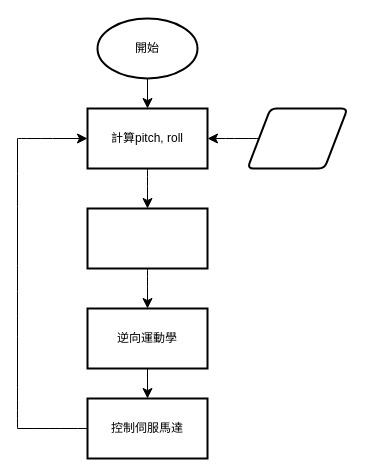
This 366x476 diagram has some shape labels left out. Each missing label, with the box of its shape:
IMU資料: (246, 107, 348, 169)
計算平台法向量: (86, 207, 208, 269)
